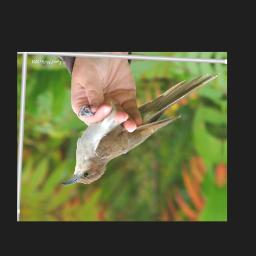Cuckoo: (61, 67, 221, 195)
